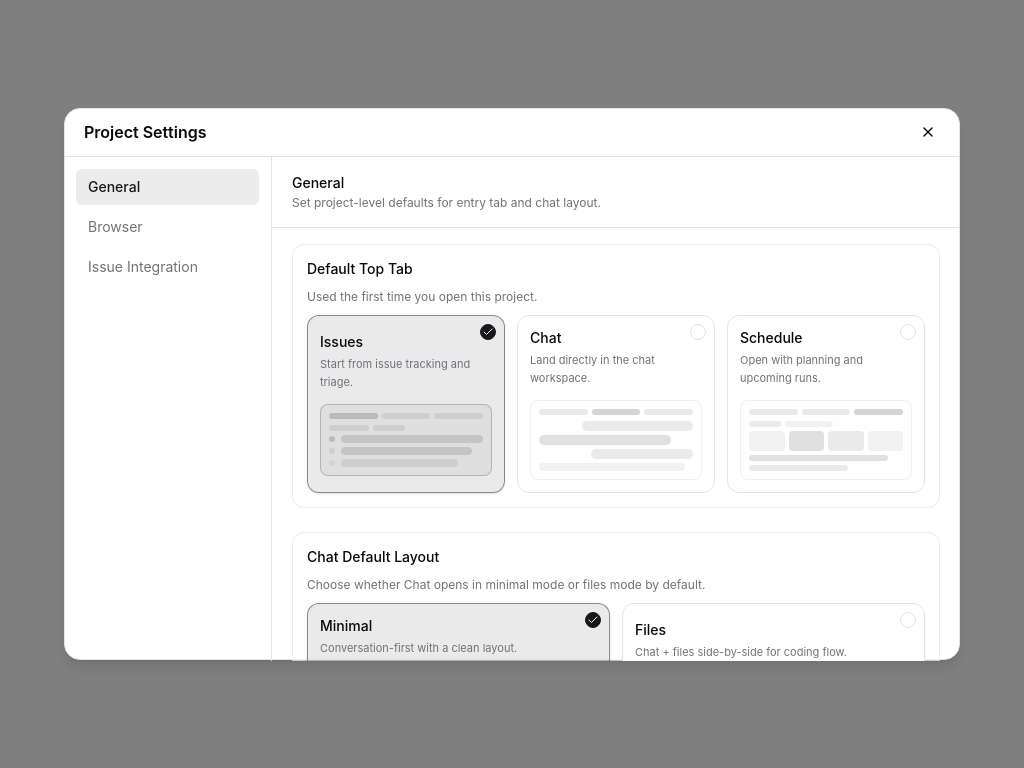
Test: ProjectSettingsModal › renders visible modal title and per-tab page headers
The image size is (1024, 768).
Expected: the heading "Project Settings" is shown, x1=84 y1=120 x2=206 y2=144
Expected: the heading "General" is shown, x1=292 y1=174 x2=344 y2=190
Click the tab "Browser": click(168, 226) x1=76 y1=208 x2=259 y2=244
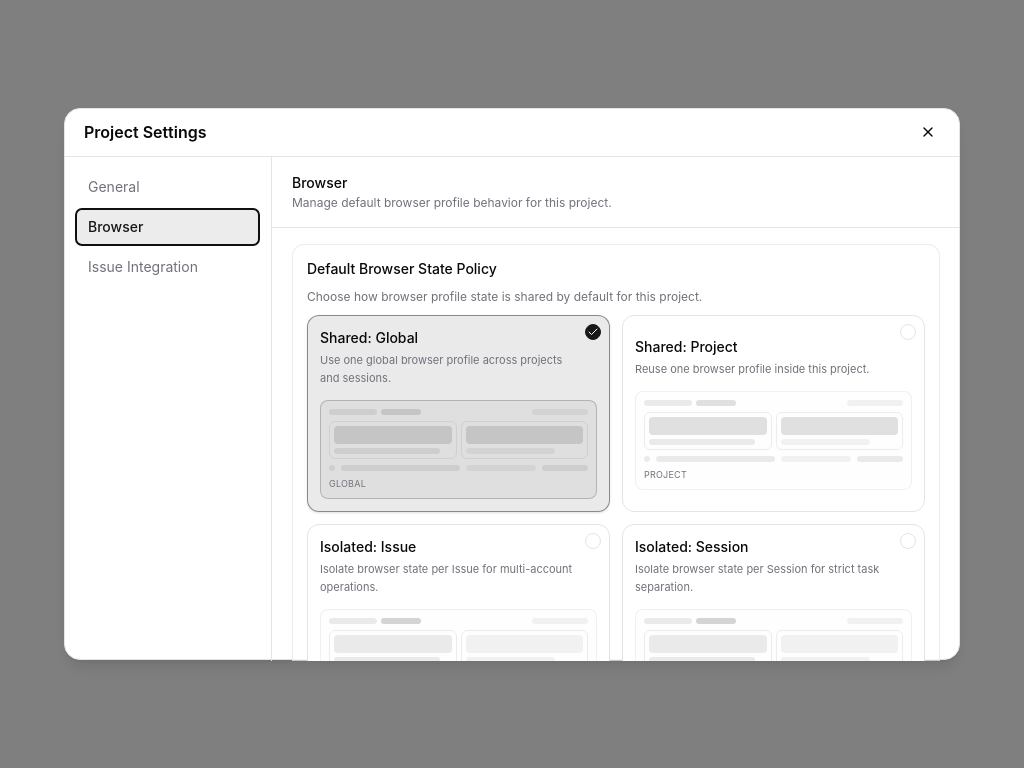
Expected: the heading "Browser" is shown, x1=292 y1=174 x2=347 y2=190
Click the tab "Issue Integration": click(168, 266) x1=76 y1=248 x2=259 y2=284
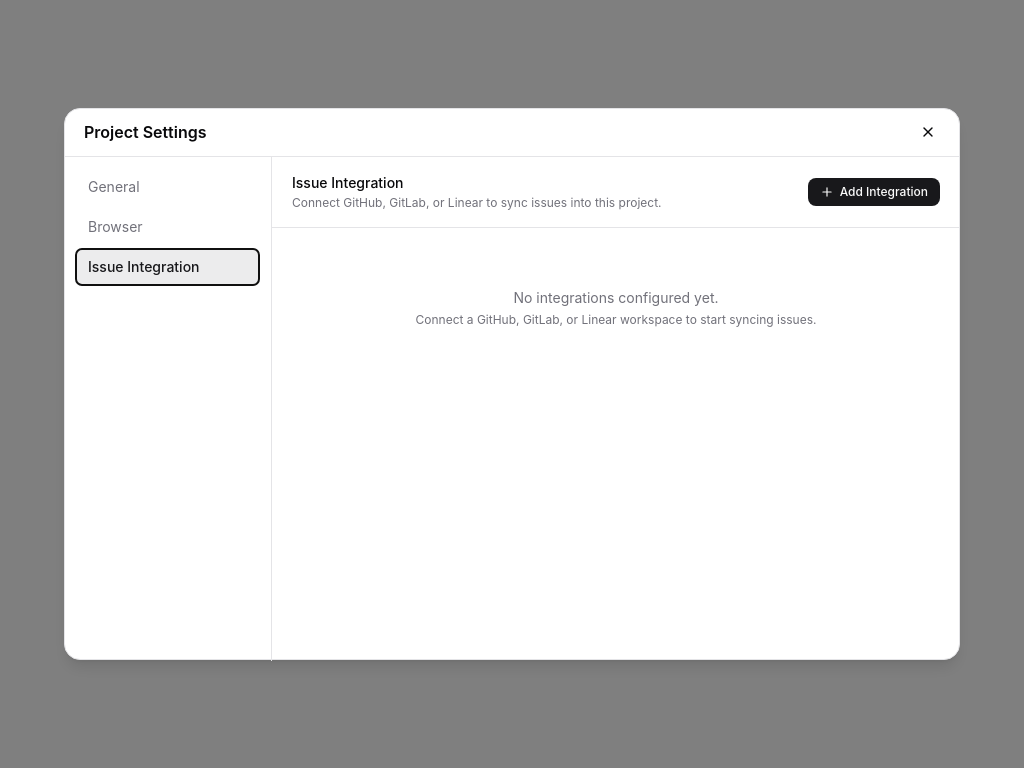
Expected: the heading "Issue Integration" is shown, x1=292 y1=174 x2=404 y2=190
